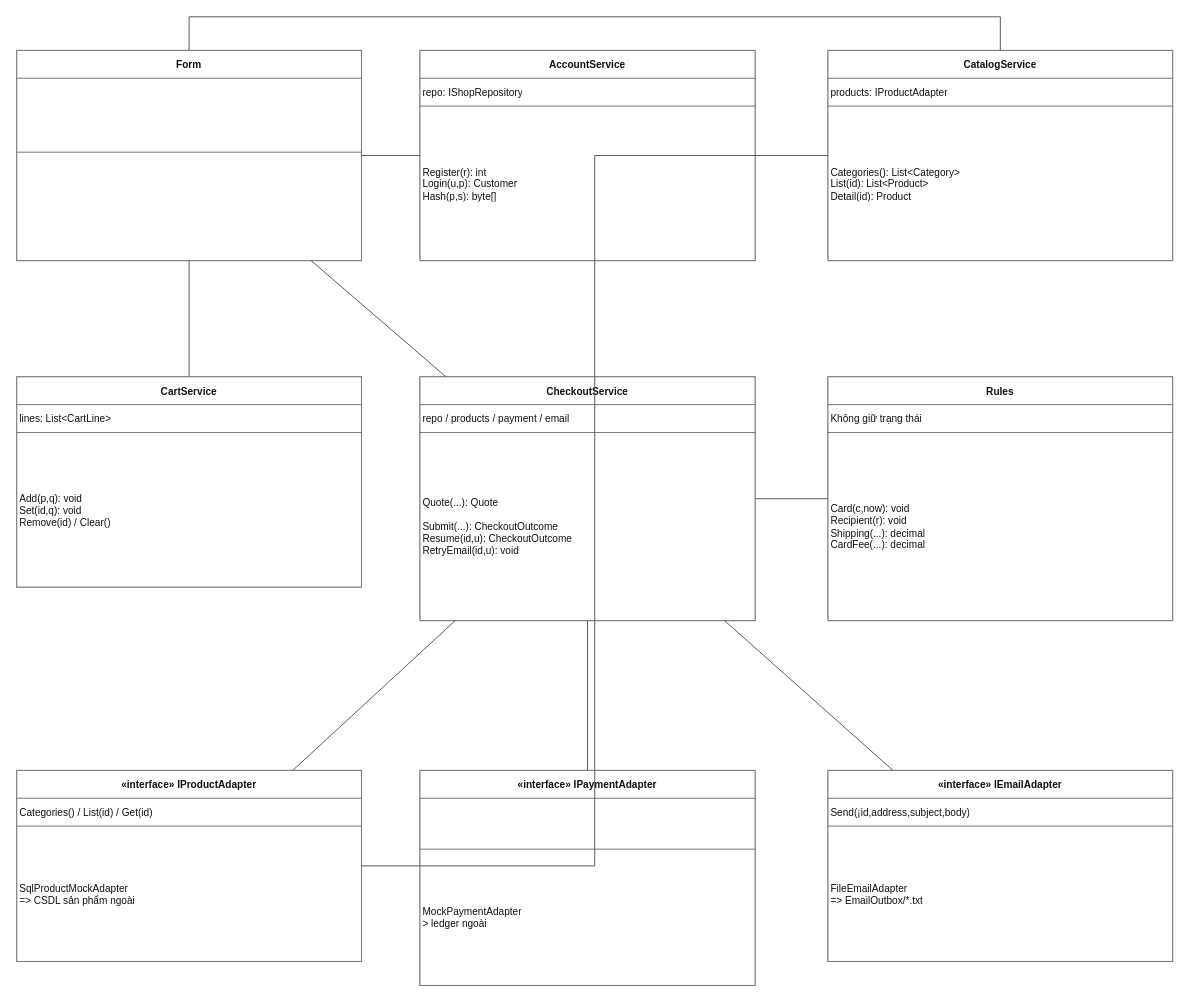
The diagram is 1189 pixels wide and 1002 high, and some of its shapes have lost their labels. The box of each missing label's shape, as (x1, y1, x2, y2) in pixels:
Authorize(id,total,card) Query(id,total): (419, 797, 755, 850)
Gọi Service; hiển thị dữ liệu: (16, 151, 361, 261)
MainForm / RegisterForm LoginForm / CheckoutForm ProductDetailForm / ReceiptForm: (16, 77, 361, 153)
